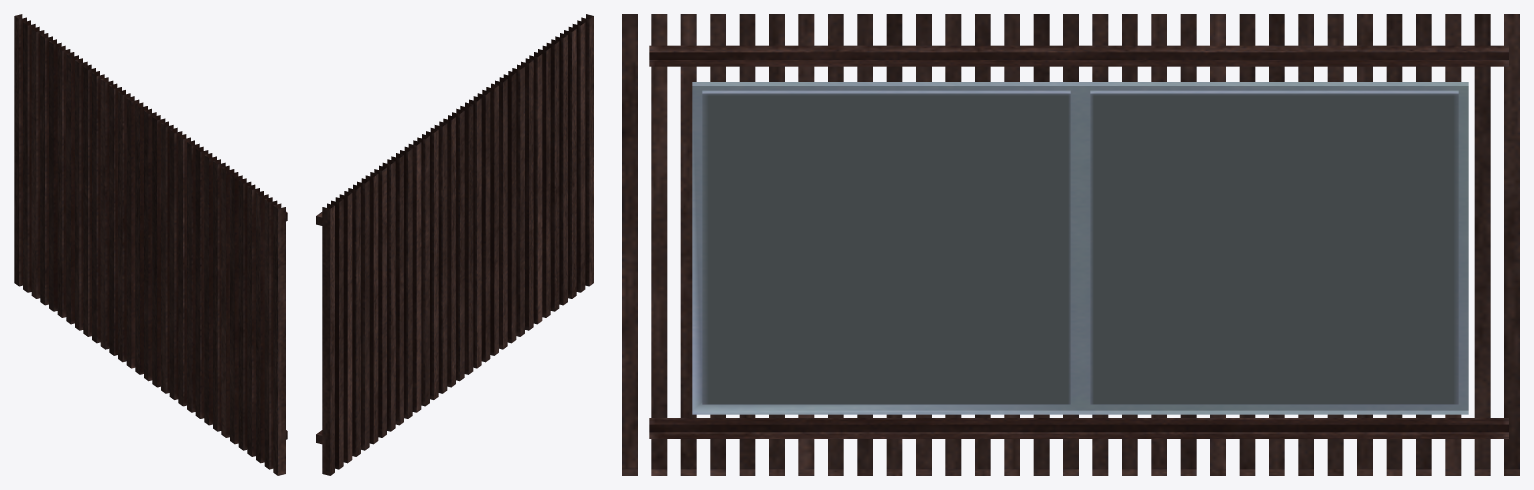
Rendered from KotoHouse_04.fbx.
3 renders of one model, left to right at view 1: azimuth 30°, elevation 25°; view 2: azimuth 150°, elevation 25°; view 3: azimuth 270°, elevation 25°, orthographic. The views are drawn at different scales.
Parts seen in each view (by area): view 1: SM_KotoHouse003; view 2: SM_KotoHouse003; view 3: SM_KotoHouse003.
Part boxes in pixels (x1=…): SM_KotoHouse003: x1=14, y1=14, x2=287, y2=475; SM_KotoHouse003: x1=316, y1=14, x2=593, y2=475; SM_KotoHouse003: x1=622, y1=14, x2=1519, y2=475.
Bounding box in the file's own units: 7.31 × 93.95 × 168.
Materials: 1 (1 with a texture image).
